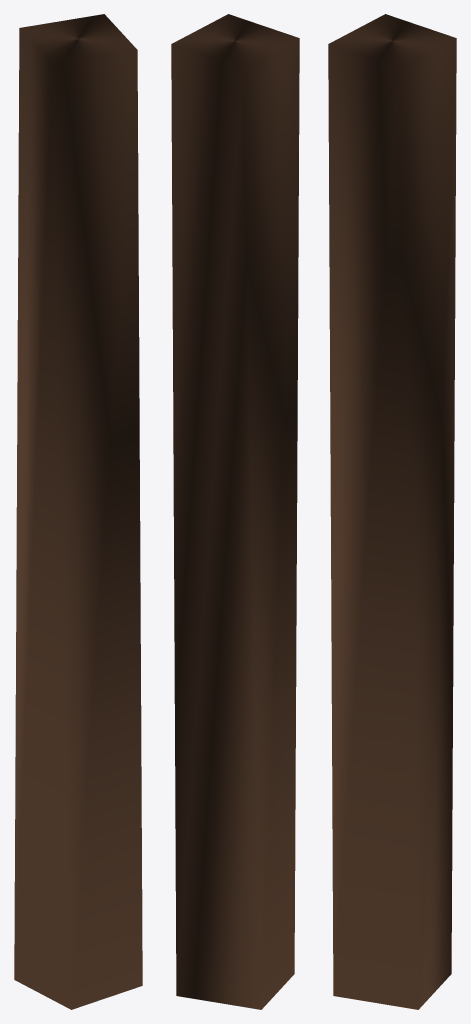
The model's file is pillar_wood_lod1.glb.
The picture shows the model from 3 angles, left to right: view 1: azimuth 30°, elevation 25°; view 2: azimuth 150°, elevation 25°; view 3: azimuth 330°, elevation 25°; orthographic projection.
Size of the model in its own units: 0.3 by 3 by 0.3.
